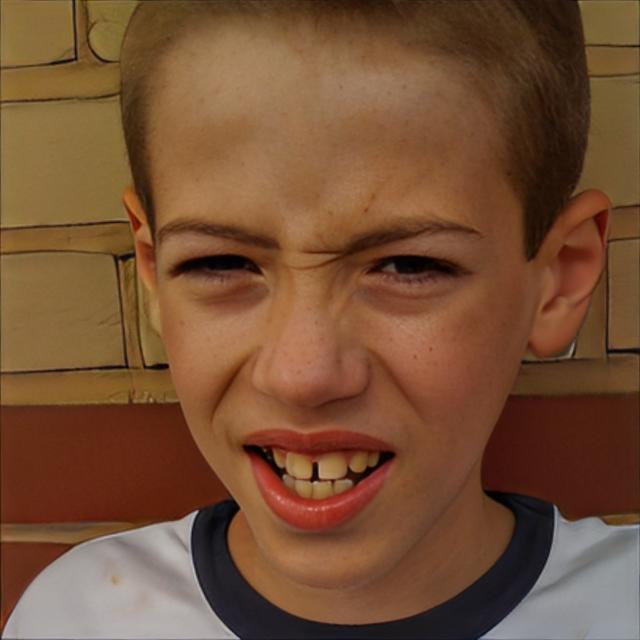disgust: (150, 26, 532, 594)
